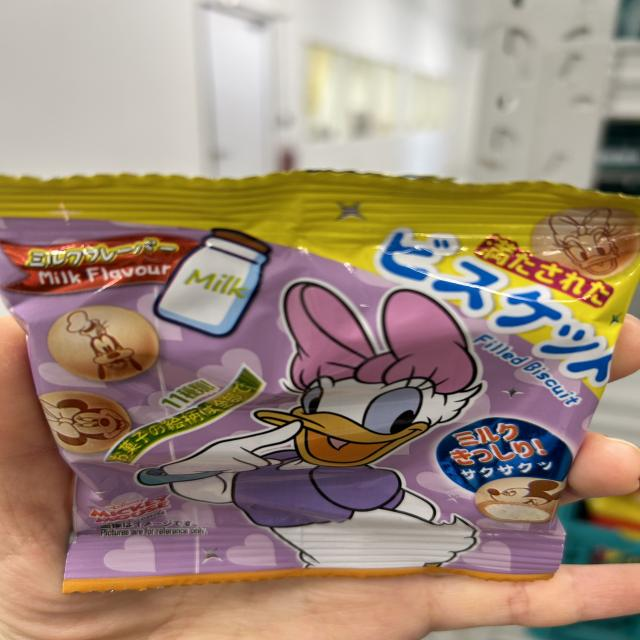object_name: (32, 186, 559, 565)
